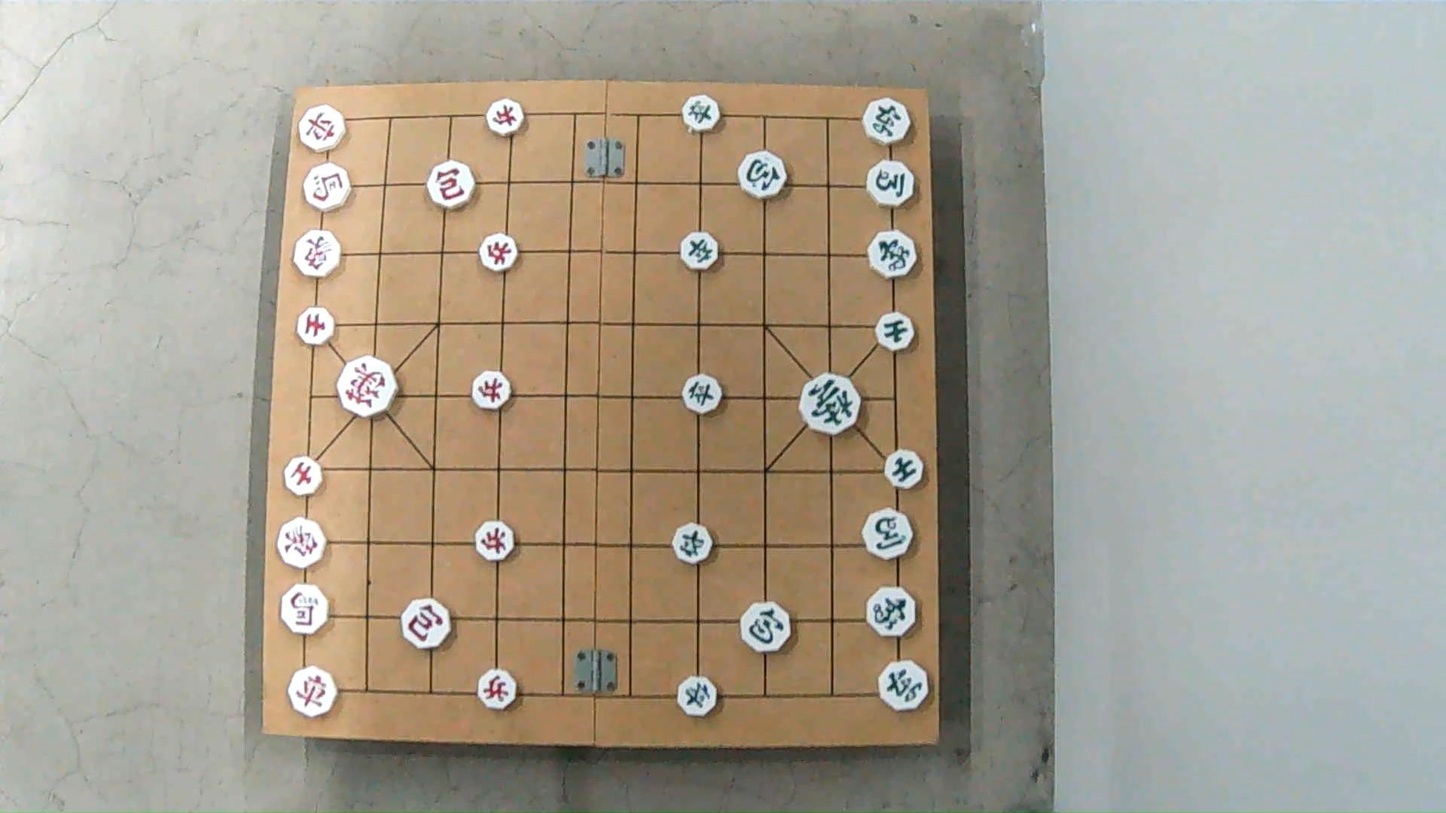cha_green: (874, 656, 931, 712), (861, 102, 913, 145)
cha_red: (290, 669, 341, 716), (297, 108, 346, 151)
jol_green: (675, 679, 720, 717), (673, 527, 717, 563), (682, 378, 724, 415), (676, 236, 718, 272), (682, 96, 722, 130)
jol_red: (468, 370, 512, 410), (479, 232, 521, 273), (476, 671, 519, 708), (474, 524, 518, 559), (485, 103, 525, 136)
ma_green: (861, 509, 914, 559), (867, 163, 919, 206)
ma_red: (276, 583, 332, 635), (303, 166, 352, 210)
po_green: (736, 599, 796, 652), (736, 148, 789, 199)
po_red: (401, 595, 452, 648), (425, 159, 479, 207)
sa_green: (873, 310, 916, 352), (883, 450, 926, 486)
sa_red: (294, 308, 336, 346), (285, 460, 325, 496)
sang_green: (862, 586, 917, 638), (866, 226, 917, 281)
sang_red: (291, 230, 342, 276), (279, 521, 329, 566)
wang_green: (798, 375, 862, 431)
wang_red: (337, 357, 401, 418)
